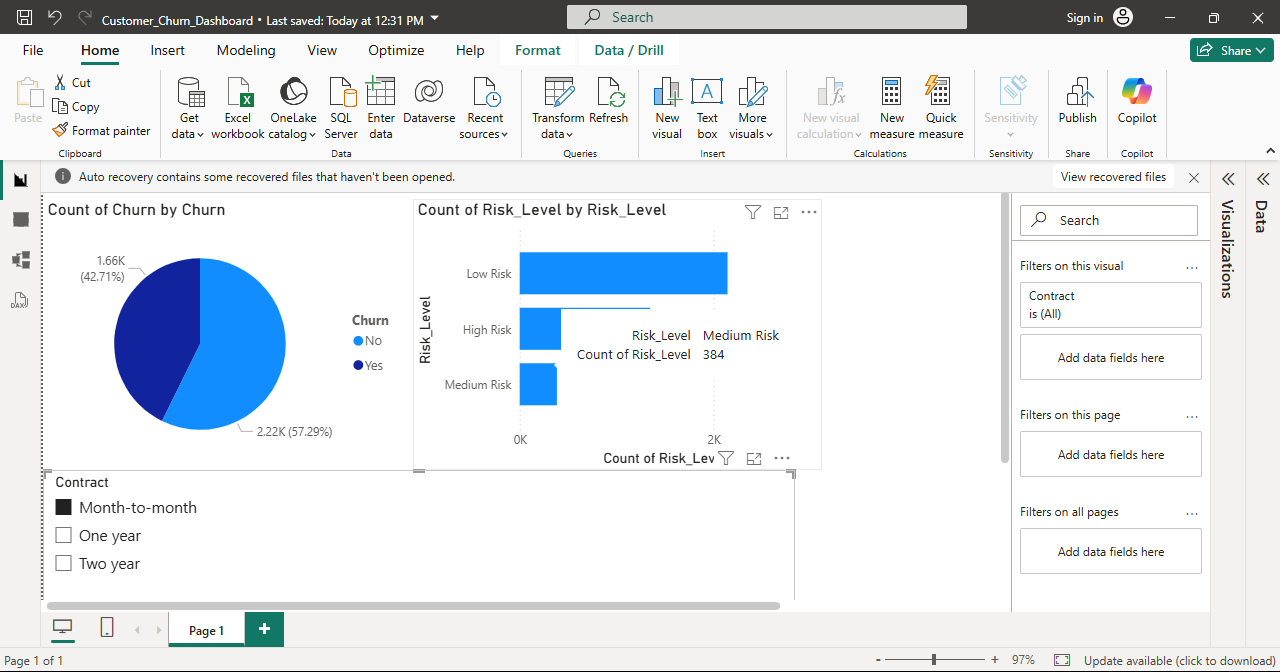

The page's visual inventory and layout, read from the dashboard file:
{"tool":"powerbi","page":{"name":"Page 1","canvas":[1280,720],"ordinal":0},"visuals":[{"type":"pieChart","fields":{"Category":["customer_churn_powerbi_output.Churn"],"Y":["CountNonNull(customer_churn_powerbi_output.Churn)"]},"box":[0,80,381.7,280],"z":0},{"type":"clusteredBarChart","fields":{"Y":["CountNonNull(customer_churn_powerbi_output.Risk_Level)"],"Category":["customer_churn_powerbi_output.Risk_Level"]},"box":[381.7,80,421.7,280],"z":1},{"type":"slicer","fields":{"Values":["customer_churn_powerbi_output.Contract"]},"box":[0,415,775,280],"z":2}]}

Visuals, with their boxes on the page's 1280x720 design canvas (x1, y1, x2, y2). These are canvas units, not pixel positions in the 1280x672 screenshot, which may show the page scaled, cropped or inside an application window:
pieChart - customer_churn_powerbi_output.Churn x CountNonNull(customer_churn_powerbi_output.Churn): {"x1": 0, "y1": 80, "x2": 382, "y2": 360}
clusteredBarChart - CountNonNull(customer_churn_powerbi_output.Risk_Level) x customer_churn_powerbi_output.Risk_Level: {"x1": 382, "y1": 80, "x2": 803, "y2": 360}
slicer - customer_churn_powerbi_output.Contract: {"x1": 0, "y1": 415, "x2": 775, "y2": 695}
